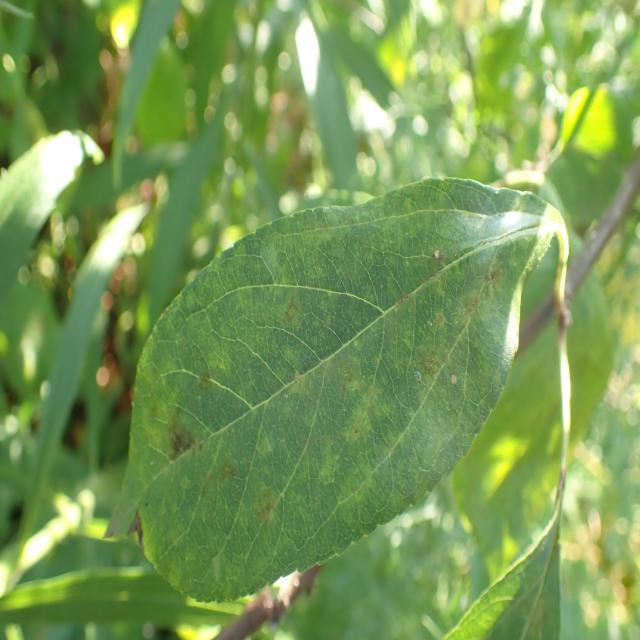scab: (121, 202, 530, 568)
